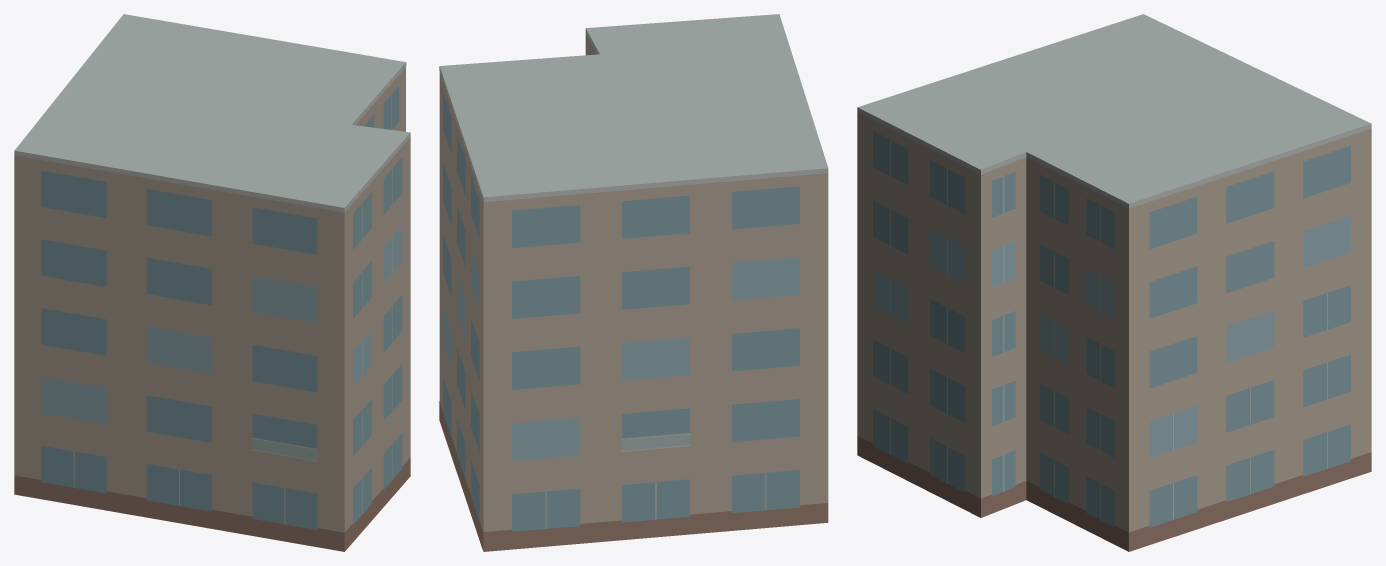
File: survey-upis-32865494.glb
3 renders of one model, left to right at view 1: azimuth 30°, elevation 25°; view 2: azimuth 150°, elevation 25°; view 3: azimuth 270°, elevation 25°, orthographic. The views are drawn at different scales.
Parts seen in each view (by area): view 1: survey-upis-32865494.tmp; view 2: survey-upis-32865494.tmp; view 3: survey-upis-32865494.tmp.
Part boxes in pixels (left/top/right/bottom): survey-upis-32865494.tmp: left=14, top=14, right=410, bottom=551; survey-upis-32865494.tmp: left=439, top=14, right=828, bottom=551; survey-upis-32865494.tmp: left=857, top=14, right=1371, bottom=551.
Bounding box in the file's own units: 20.83 × 17.8 × 23.84.
